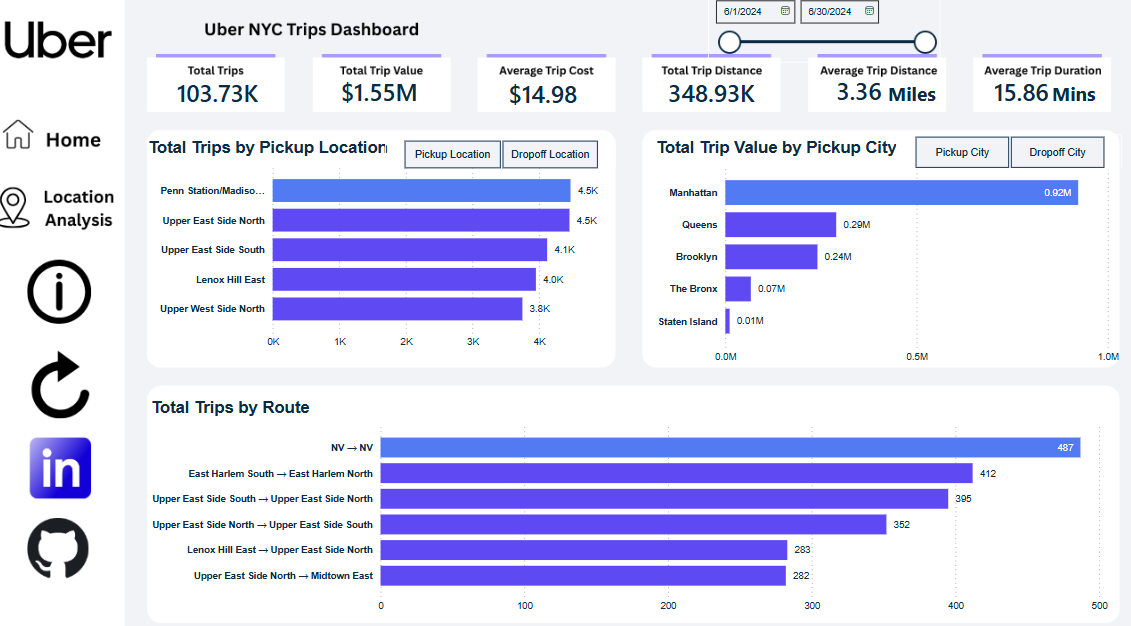

The dashboard page shown, as its layout file describes it:
{"tool":"powerbi","page":{"name":"Duplicate of Page 1","canvas":[1280,720],"ordinal":1},"visuals":[{"type":"card","fields":{"Values":["CountNonNull(ce98f38e-02cd-42f0-aa26-177c1cdb8085.trip_id)"]},"box":[198.4,97.3,105,26.3],"z":0},{"type":"card","fields":{"Values":["ce98f38e-02cd-42f0-aa26-177c1cdb8085.Total Booking Value"]},"box":[378.4,85.6,108,48.6],"z":1000},{"type":"card","fields":{"Values":["uber_trips.Average Booking Value"]},"box":[569.5,85.5,93.9,53],"z":2000},{"type":"card","fields":{"Values":["Sum(uber_trips.trip_distance)"]},"box":[757.3,90.3,97.5,42.1],"z":3000},{"type":"card","fields":{"Values":["Avg(uber_trips.trip_distance)"]},"box":[937.9,89.1,67.4,40.9],"z":4000},{"type":"card","fields":{"Values":["Avg(uber_trips.Trip Duration (Minutes))"]},"box":[1108.9,93.9,87.9,31.3],"z":5000},{"type":"textbox","box":[1188.4,96.3,69.8,34.9],"z":6000},{"type":"textbox","box":[1004.1,96.3,59,42.1],"z":7000},{"type":"slicer","fields":{"Values":["uber_trips.pickup_time"]},"box":[801.9,0,261.3,75.9],"z":8000},{"type":"clusteredBarChart","fields":{"Category":["uber_trips.Pickup Location","uber_trips.Dropoff Location"],"Y":["CountNonNull(ce98f38e-02cd-42f0-aa26-177c1cdb8085.trip_id)"]},"box":[162.8,150.5,537.8,259.4],"z":9000},{"type":"barChart","fields":{"Category":["uber_trips.Pickup City","uber_trips.Dropoff City"],"Y":["uber_trips.Total Trip Value 2"]},"box":[733.2,150.5,541.2,275.1],"z":10000},{"type":"clusteredBarChart","fields":{"Category":["uber_trips.Route"],"Y":["uber_trips.Total Trips"]},"box":[166.3,442.6,1100.1,262.6],"z":11000},{"type":"slicer","fields":{"Values":["PickupDropoffNew.PickupDropoffNew"]},"box":[439,160.6,259.4,35.9],"z":12000},{"type":"slicer","fields":{"Values":["Cities.Cities"]},"box":[1012.8,156.1,253.8,40.4],"z":13000}]}

Visuals, with their boxes on the page's 1280x720 design canvas (x1, y1, x2, y2). These are canvas units, not pixel positions in the 1131x626 screenshot, which may show the page scaled, cropped or inside an application window:
card - CountNonNull(ce98f38e-02cd-42f0-aa26-177c1cdb8085.trip_id): bbox=[198, 97, 303, 124]
card - ce98f38e-02cd-42f0-aa26-177c1cdb8085.Total Booking Value: bbox=[378, 86, 486, 134]
card - uber_trips.Average Booking Value: bbox=[570, 86, 663, 138]
card - Sum(uber_trips.trip_distance): bbox=[757, 90, 855, 132]
card - Avg(uber_trips.trip_distance): bbox=[938, 89, 1005, 130]
card - Avg(uber_trips.Trip Duration (Minutes)): bbox=[1109, 94, 1197, 125]
textbox: bbox=[1188, 96, 1258, 131]
textbox: bbox=[1004, 96, 1063, 138]
slicer - uber_trips.pickup_time: bbox=[802, 0, 1063, 76]
clusteredBarChart - uber_trips.Pickup Location x uber_trips.Dropoff Location: bbox=[163, 150, 701, 410]
barChart - uber_trips.Pickup City x uber_trips.Dropoff City: bbox=[733, 150, 1274, 426]
clusteredBarChart - uber_trips.Route x uber_trips.Total Trips: bbox=[166, 443, 1266, 705]
slicer - PickupDropoffNew.PickupDropoffNew: bbox=[439, 161, 698, 196]
slicer - Cities.Cities: bbox=[1013, 156, 1267, 196]
